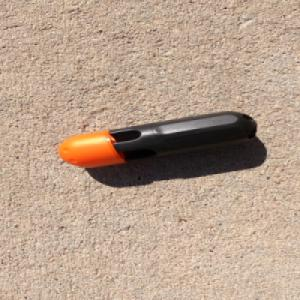PlasticPart: (55, 110, 259, 169)
